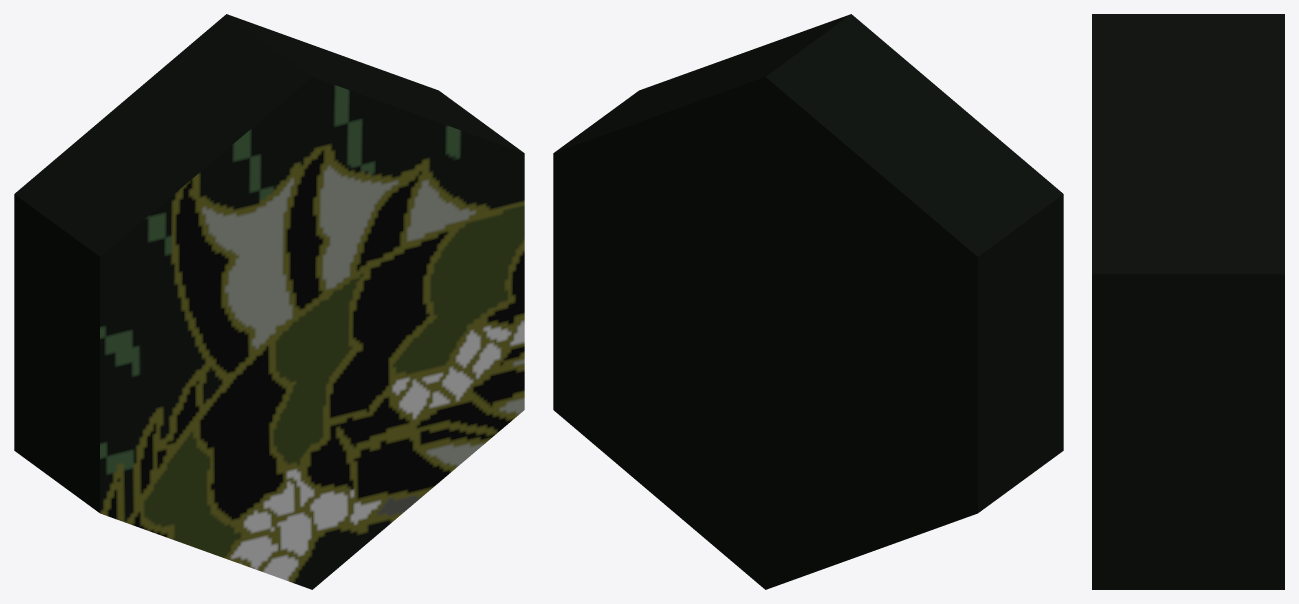
The model's file is hex4.fbx.
3 renders of one model, left to right at view 1: azimuth 30°, elevation 25°; view 2: azimuth 150°, elevation 25°; view 3: azimuth 270°, elevation 25°, orthographic. The views are drawn at different scales.
Visible parts, largest first — view 1: hex4; view 2: hex4; view 3: hex4.
Part boxes in pixels (box(x1,y1,x2,y2)): hex4: box(14, 14, 524, 589); hex4: box(553, 14, 1063, 589); hex4: box(1092, 14, 1284, 589).
Size of the model in its own units: 173 by 200 by 60.69.
Materials: 1 (1 with a texture image).
